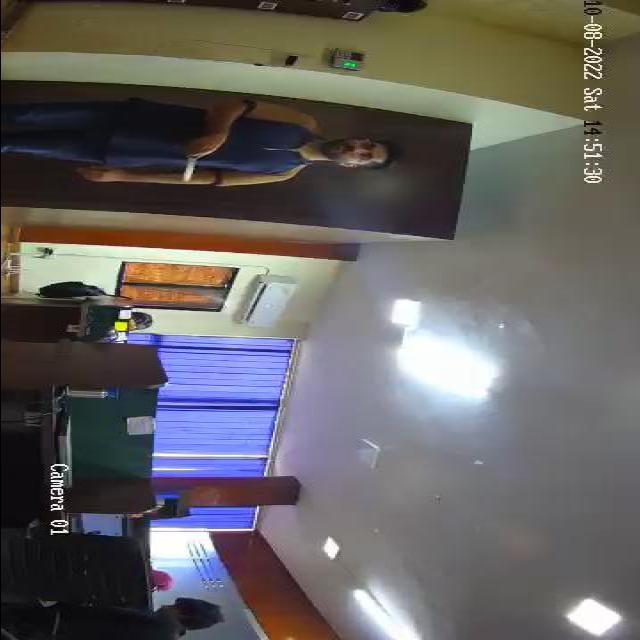Sharp-Object: (175, 148, 202, 183)
